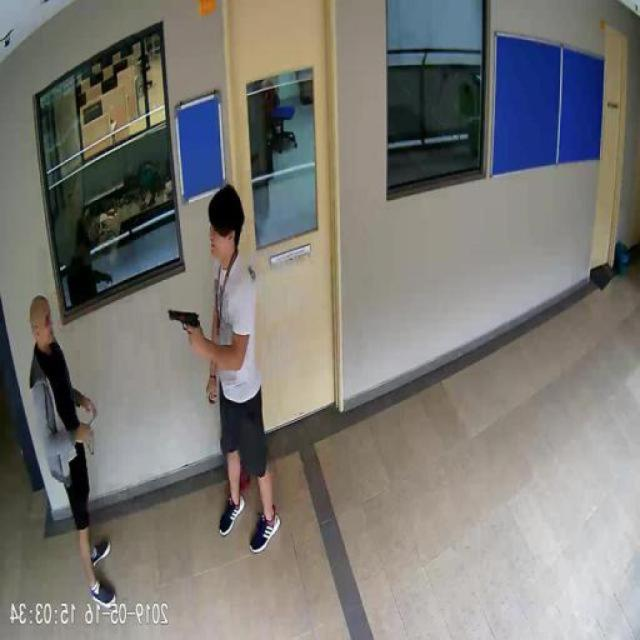pistol: (170, 306, 201, 346)
